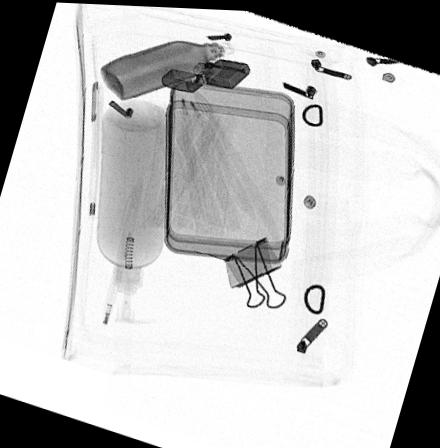Lighter: (160, 56, 250, 90)
